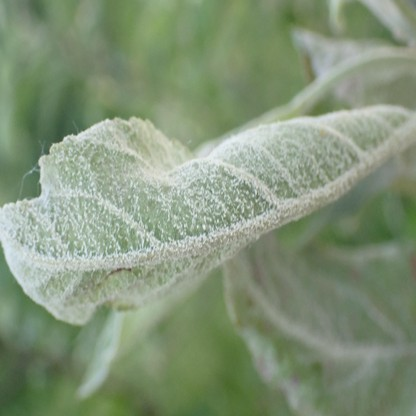powdery_mildew: (1, 105, 416, 321), (223, 230, 412, 415), (291, 26, 365, 105)
